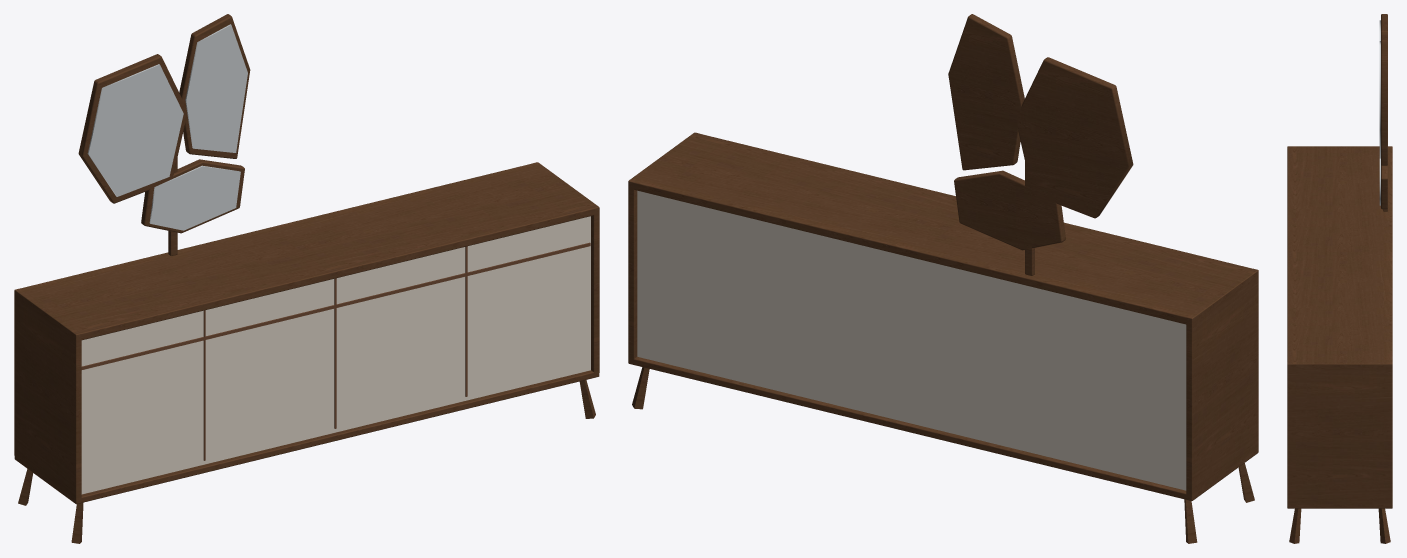
Rendered from siesta-dining-set--console.glb.
3 views of the same model, side by side, from view 1: azimuth 30°, elevation 25°; view 2: azimuth 150°, elevation 25°; view 3: azimuth 270°, elevation 25° (orthographic). The views are drawn at different scales.
Visible parts, largest first — view 1: body, top, side-1, hexglass0, hexglass1, base, hexglass2, hexframe0, hline, hexframe1, side1, hexframe2; view 2: body, top, hexframe0, side-1, hexframe1, hexframe2, base, side1; view 3: top, side1, hexframe1, base, leg1-1, leg11, hexframe2, side-1, hexglass1.
Boxes of the visible parts, <box> form: body: <box>81,216,590,494</box>; top: <box>14,163,594,340</box>; side-1: <box>14,288,81,500</box>; hexglass0: <box>87,64,183,196</box>; hexglass1: <box>185,24,247,152</box>; base: <box>14,370,599,504</box>; hexglass2: <box>149,165,240,230</box>; hexframe0: <box>78,54,186,203</box>; hline: <box>81,242,590,369</box>; hexframe1: <box>179,14,250,158</box>; side1: <box>533,162,599,374</box>; hexframe2: <box>141,159,244,233</box>; body: <box>637,190,1186,490</box>; top: <box>629,134,1258,324</box>; hexframe0: <box>1016,57,1133,218</box>; side-1: <box>1186,268,1258,497</box>; hexframe1: <box>948,14,1024,170</box>; hexframe2: <box>954,170,1065,250</box>; base: <box>628,357,1258,500</box>; side1: <box>628,132,699,360</box>; top: <box>1287,148,1392,369</box>; side1: <box>1287,362,1392,505</box>; hexframe1: <box>1381,34,1387,165</box>; base: <box>1287,504,1392,508</box>; leg1-1: <box>1289,508,1301,543</box>; leg11: <box>1378,508,1390,543</box>; hexframe2: <box>1381,165,1387,209</box>; side-1: <box>1287,146,1392,148</box>; hexglass1: <box>1379,41,1380,158</box>.
Bounding box in the file's own units: 2.2 × 1.76 × 0.45.
4 materials, 1 textured.
